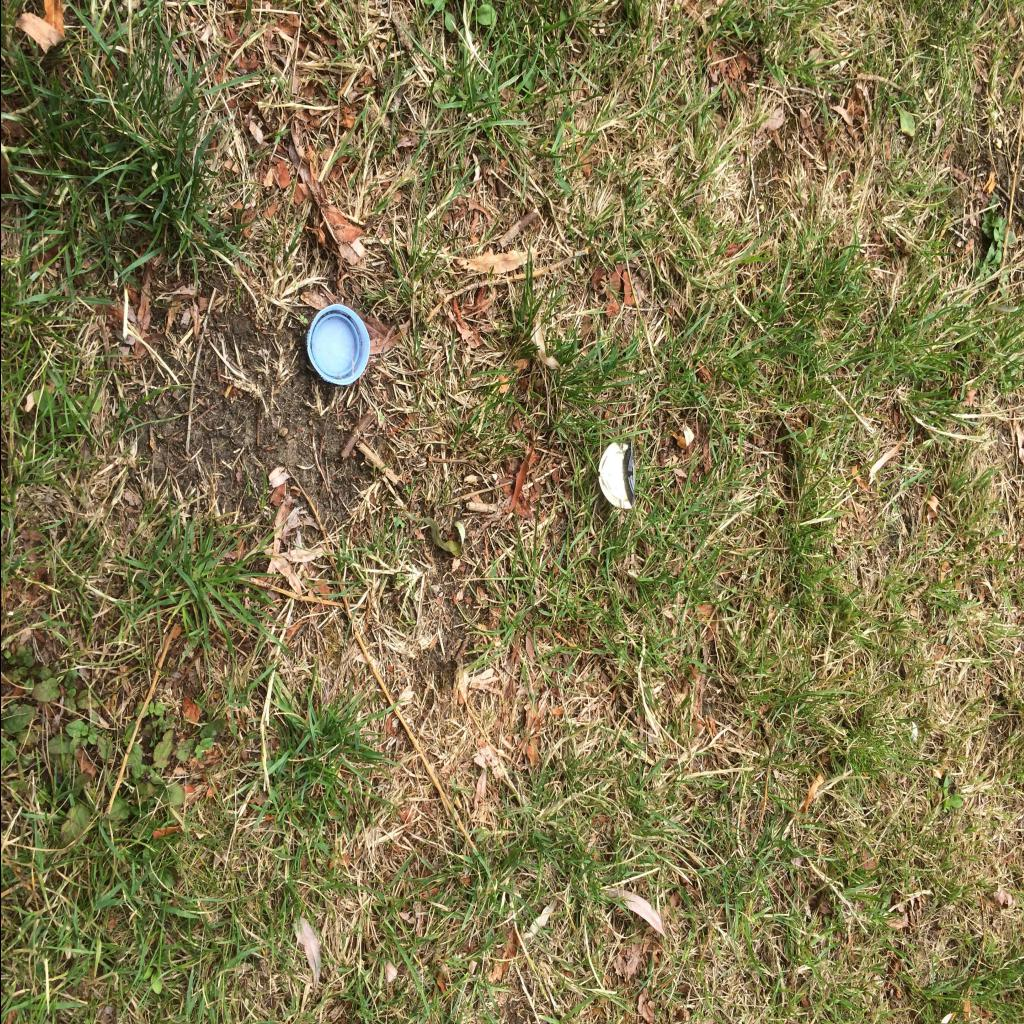Metal bottle cap: (596, 439, 634, 509)
Plastic bottle cap: (306, 304, 370, 384)
